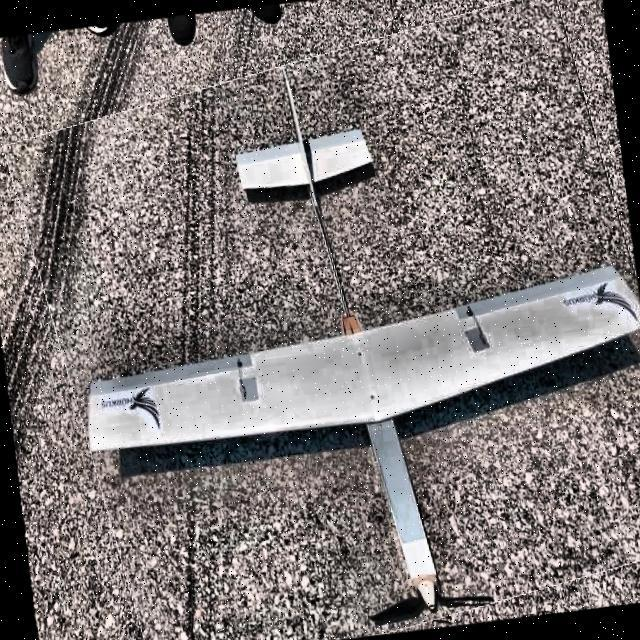iha: (37, 38, 640, 640)
